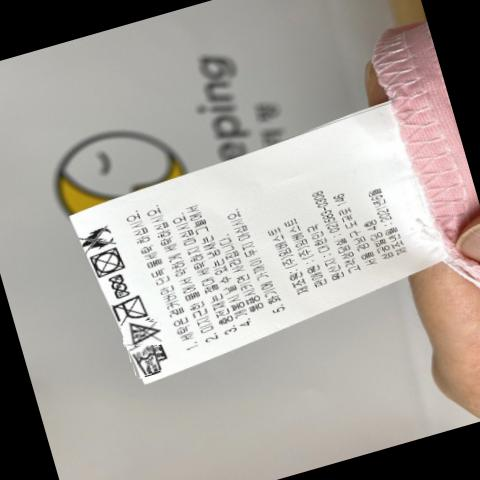DN_iron: (110, 294, 150, 326)
DN_tumble_dry: (92, 247, 125, 278)
hand_wash: (134, 343, 172, 381)
non_chlorine_bleach: (126, 320, 163, 344)
wring: (107, 273, 132, 301)
